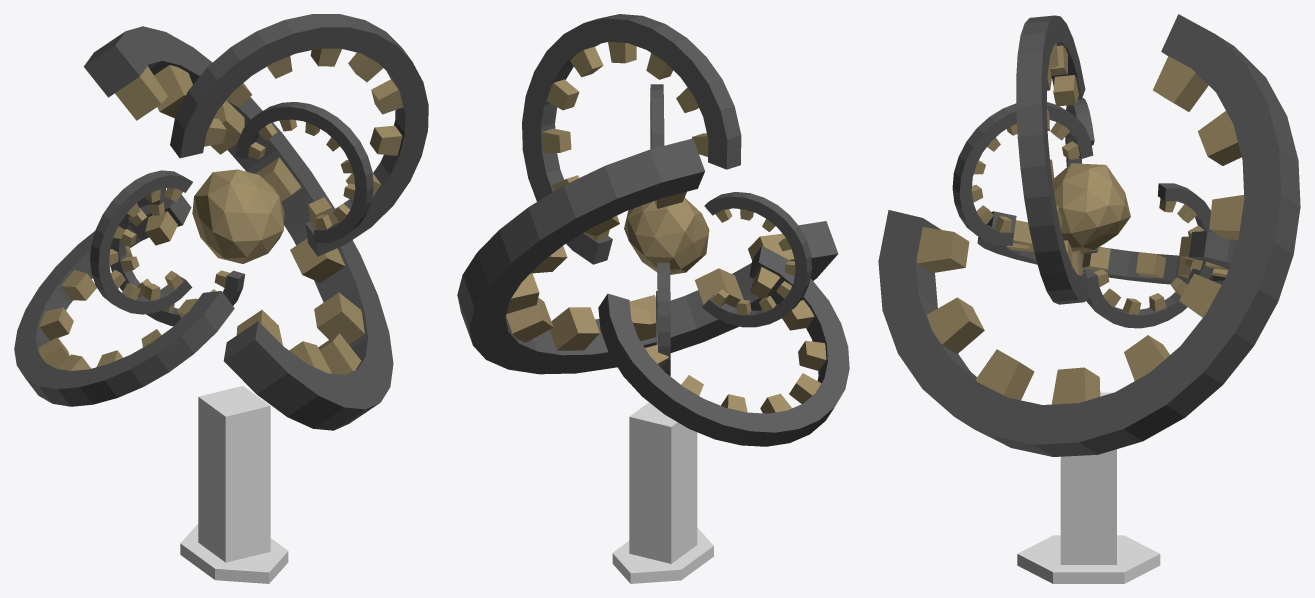
The model's file is artifact.fbx.
The picture shows the model from 3 angles, left to right: view 1: azimuth 30°, elevation 25°; view 2: azimuth 150°, elevation 25°; view 3: azimuth 270°, elevation 25°; orthographic projection. The views are drawn at different scales.
Parts seen in each view (by area): view 1: Cube.009, Cube.002, Circle; view 2: Cube.009, Cube.002, Circle; view 3: Cube.009, Cube.002, Circle.
Boxes of the visible parts, box(x1,y1,x2,y2) form: Cube.009: box(14, 14, 428, 430); Cube.002: box(198, 386, 270, 562); Circle: box(180, 523, 288, 583); Cube.009: box(457, 14, 849, 446); Cube.002: box(629, 402, 697, 563); Circle: box(612, 527, 713, 583); Cube.009: box(878, 14, 1300, 456); Cube.002: box(1060, 392, 1116, 564); Circle: box(1017, 535, 1160, 583).
Bounding box in the file's own units: 255 × 373 × 254.
